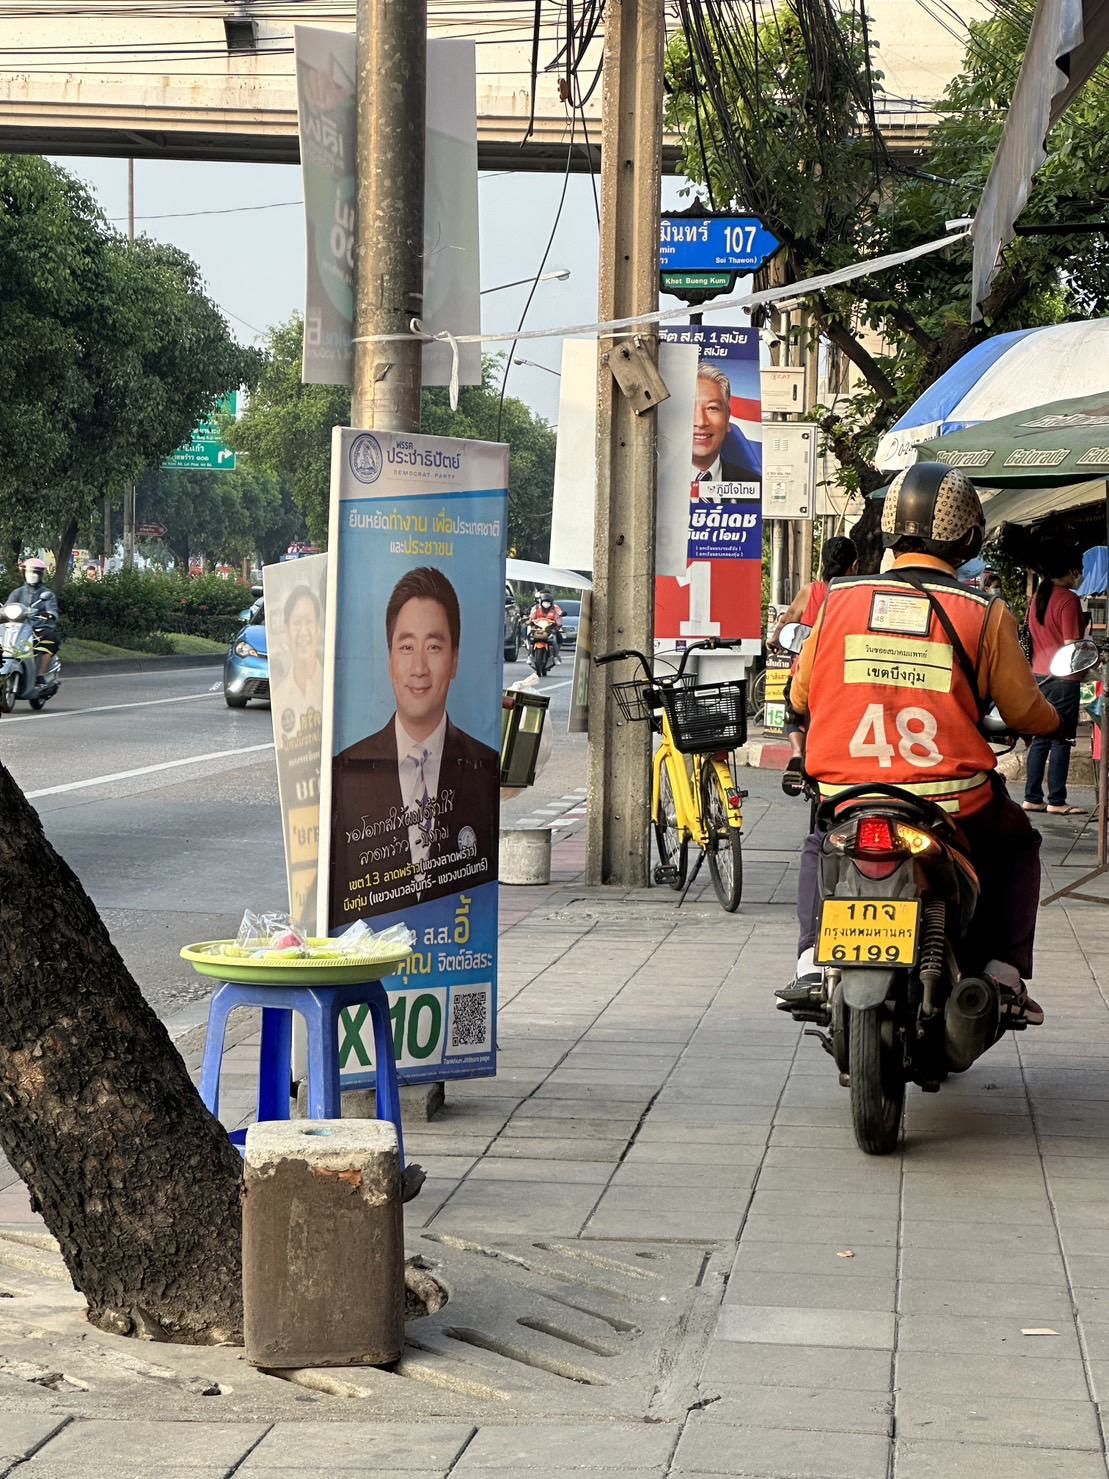Banner: (331, 418, 506, 1094), (647, 323, 765, 657)
